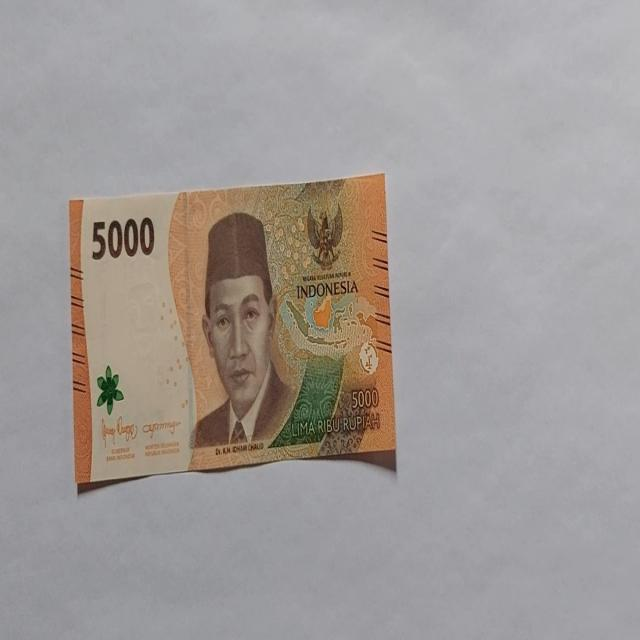lima ribu rupiah: (69, 172, 397, 490), (188, 210, 296, 454)
